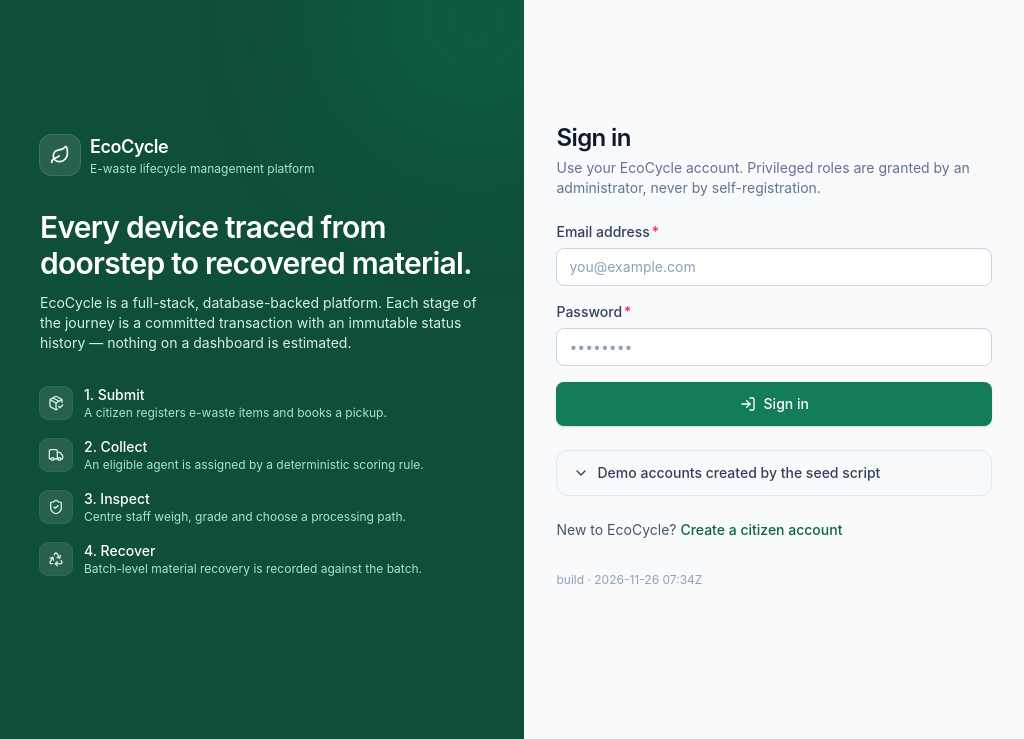
Scenario: post-login destination › still returns the user to the page they originally asked for when their role may open it
The image size is (1024, 739).
Expected: the button "Sign in" is shown, [556,382,992,426]
Type "staff.chennai@ecocycle.test" into the field labelled "Email address*" at [774, 267], box [556,248,992,286]
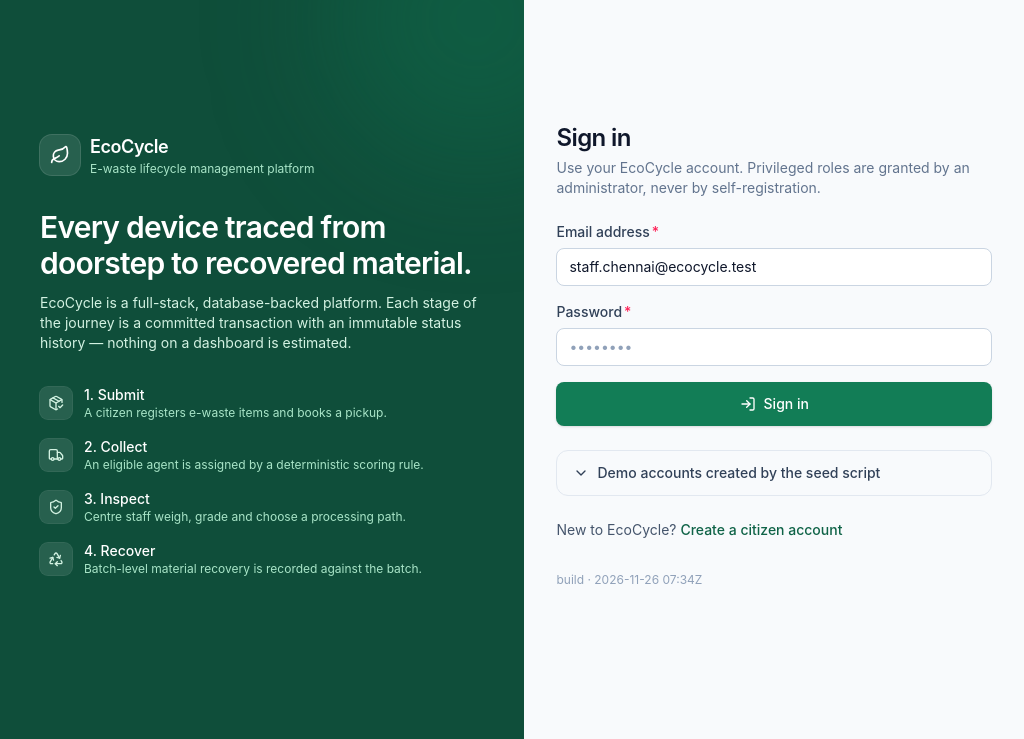
Type "Passw0rd123" into the password field labelled "Password*" at [774, 347], box [556,328,992,366]
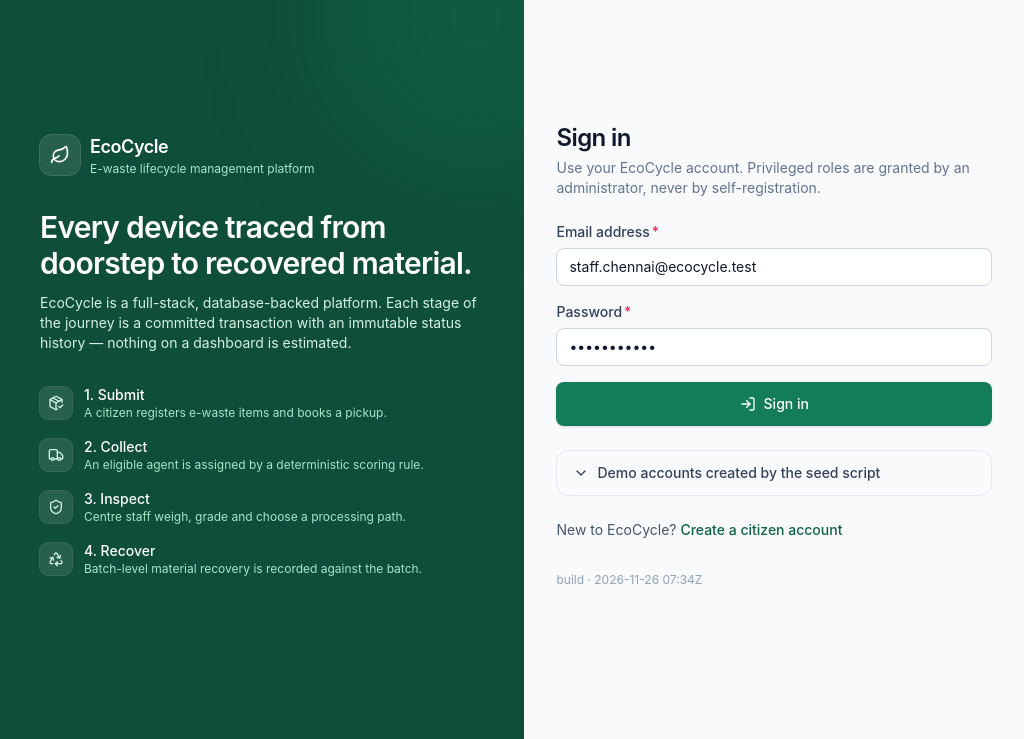
Click the button "Sign in" at [774, 404], box [556,382,992,426]
(page scrolled)
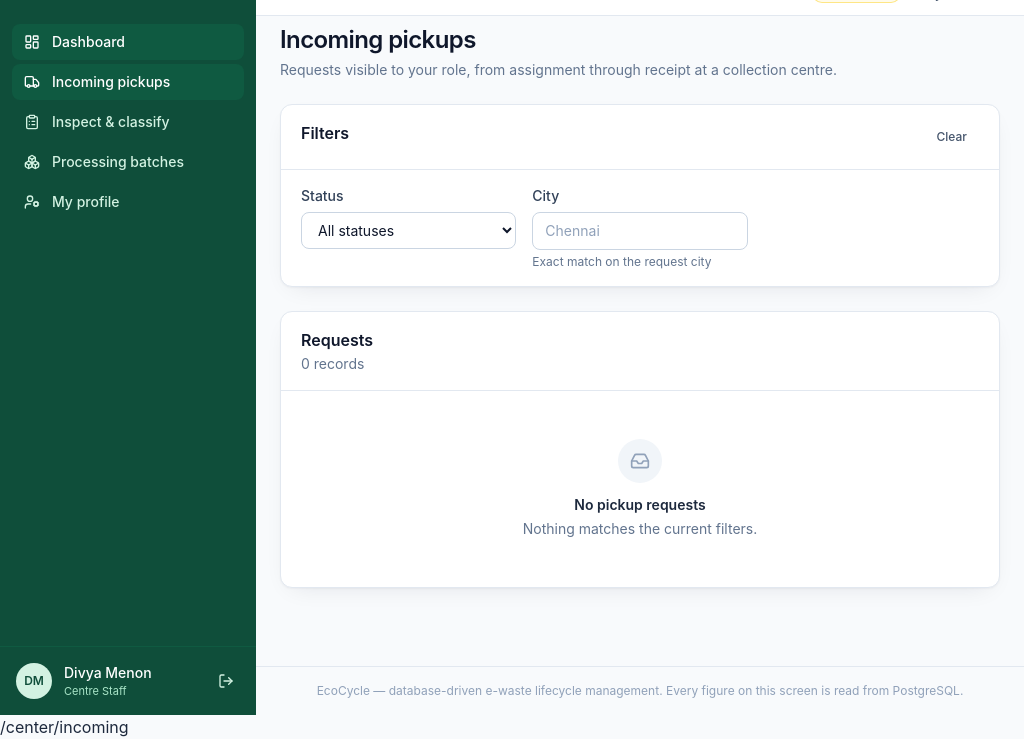
Expected: the text with test id "location" reads "/center/incoming", [0,717,129,737]
